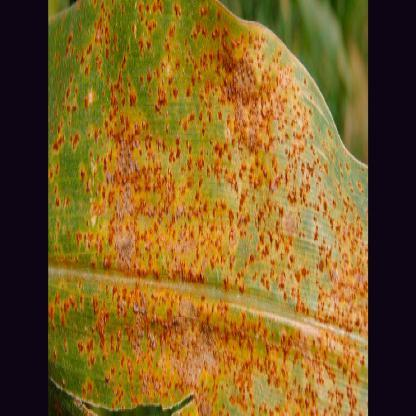Corn rust leaf: (48, 5, 368, 414)
